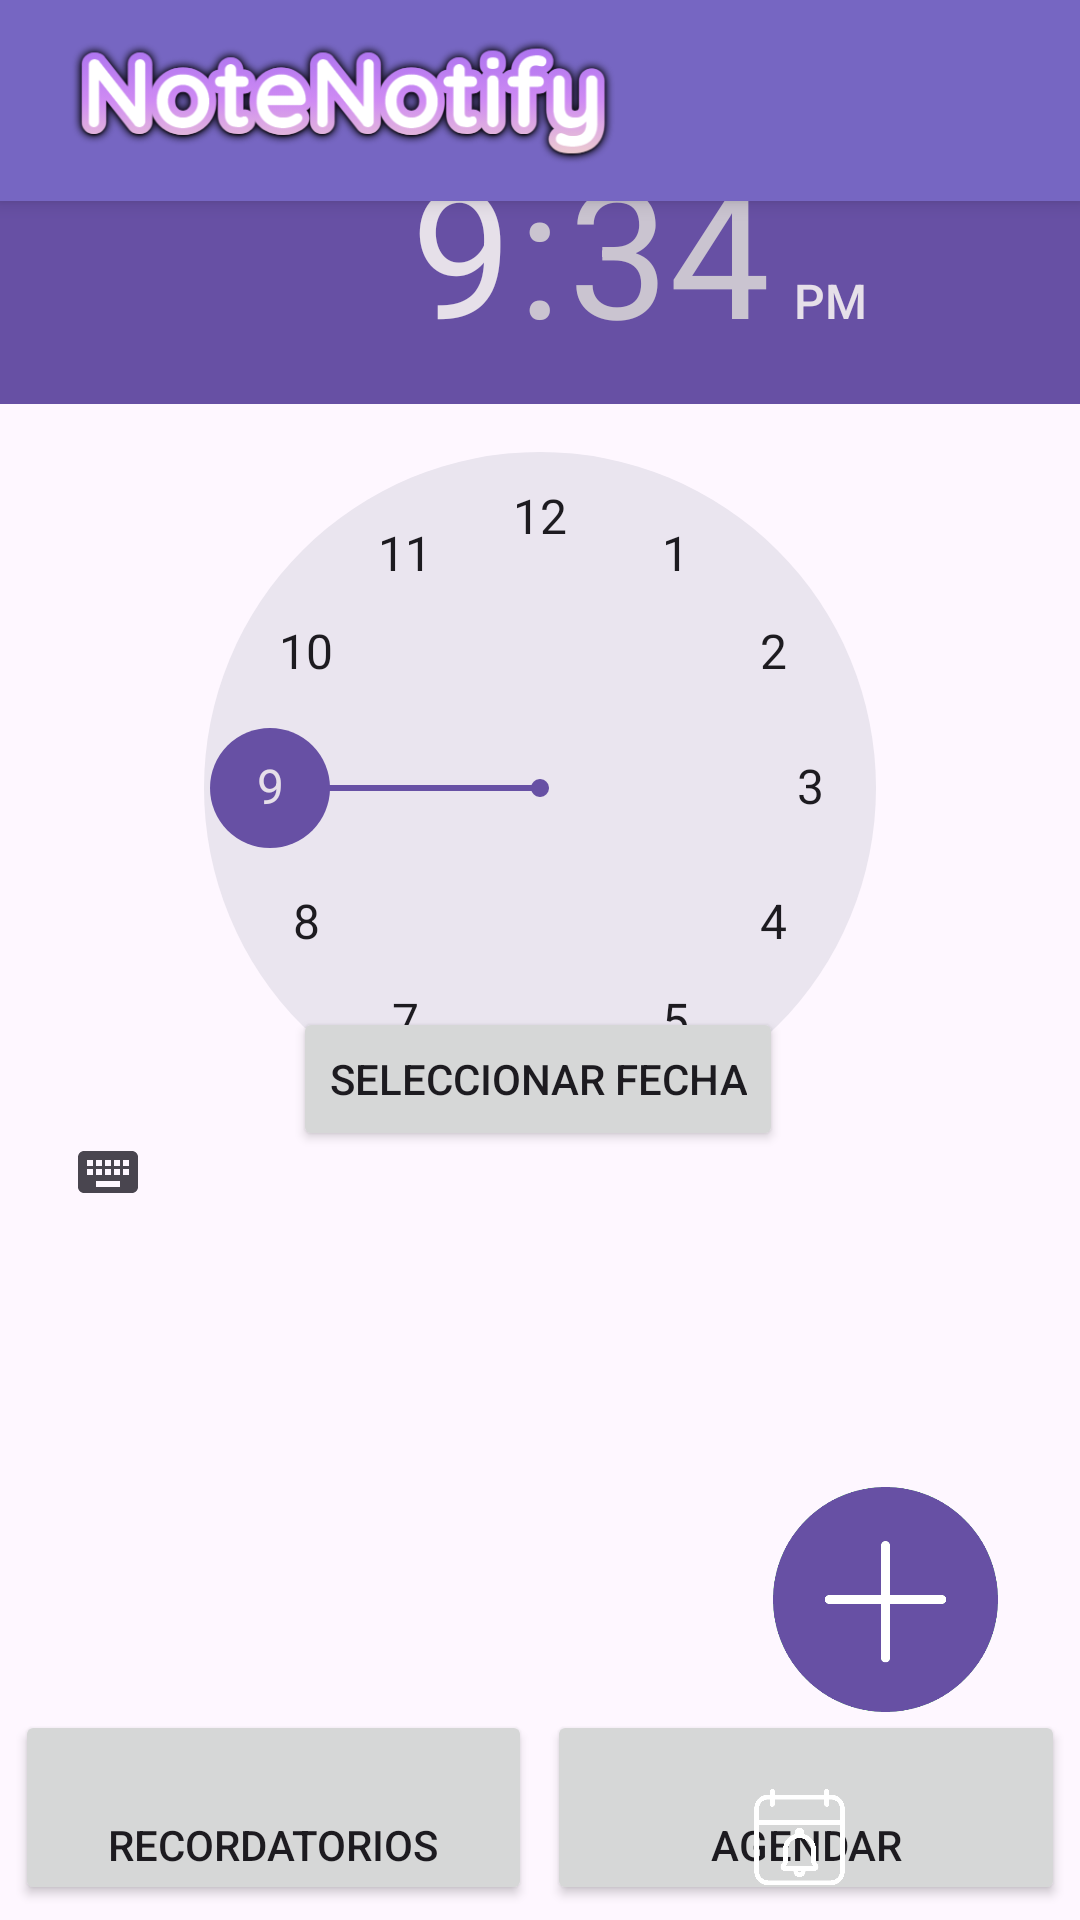

Where to tap for icons on this 1080px x 1920px app screen, as (x,y):
mas: (885,1599)
